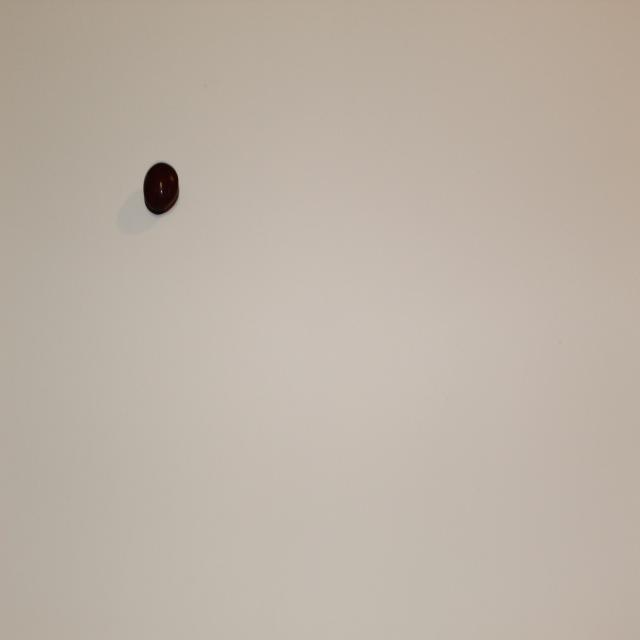smartie: (143, 161, 179, 214)
